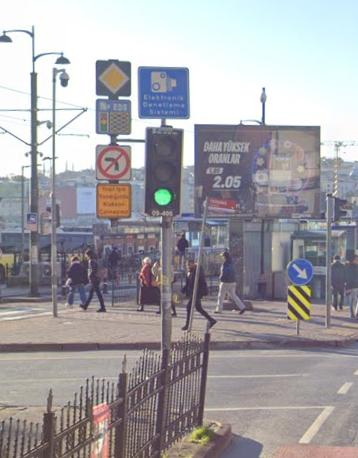greenlight: (148, 130, 179, 210)
leftturnsareforbidden: (97, 145, 129, 179)
